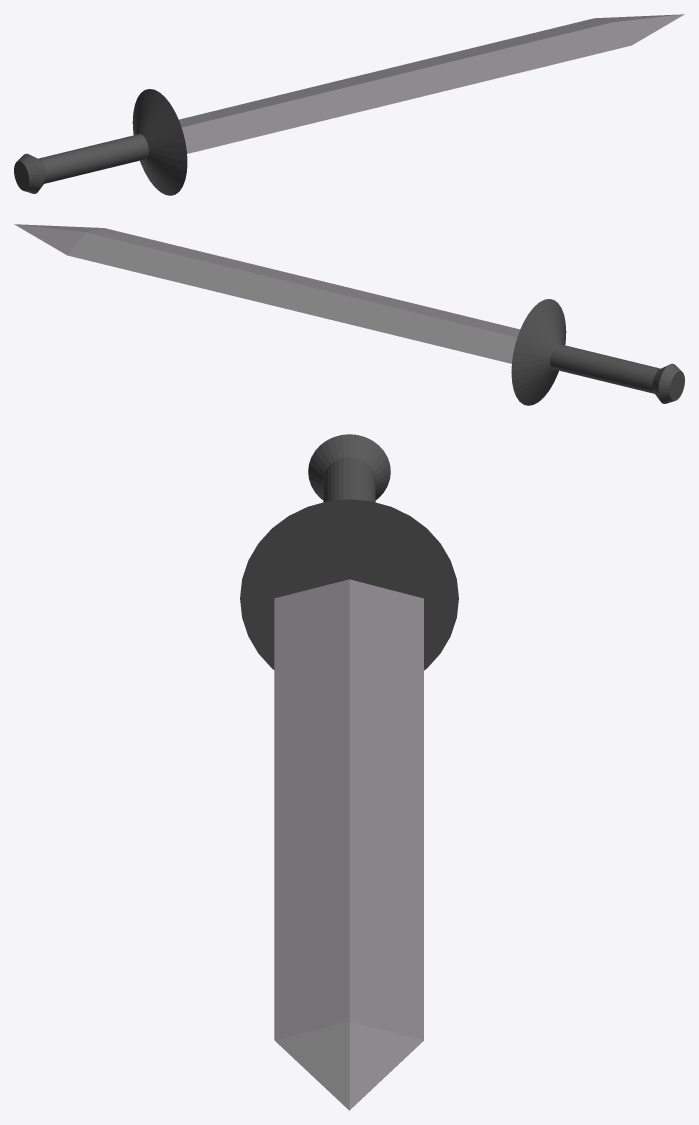
File: glowing_sword_unpowered.glb
3 views of the same model, one above another, from view 1: azimuth 30°, elevation 25°; view 2: azimuth 150°, elevation 25°; view 3: azimuth 270°, elevation 25° (orthographic). The views are drawn at different scales.
Parts seen in each view (by area): view 1: Blade, hilt; view 2: Blade, hilt; view 3: Blade, hilt.
Boxes of the visible parts, x1=… form: Blade: x1=179, y1=14, x2=684, y2=153; hilt: x1=14, y1=89, x2=187, y2=195; Blade: x1=14, y1=224, x2=520, y2=363; hilt: x1=511, y1=299, x2=684, y2=405; Blade: x1=274, y1=579, x2=423, y2=1110; hilt: x1=240, y1=434, x2=458, y2=670.
Size of the model in its own units: 102 by 14.63 by 14.63.
2 materials, 2 textured.
